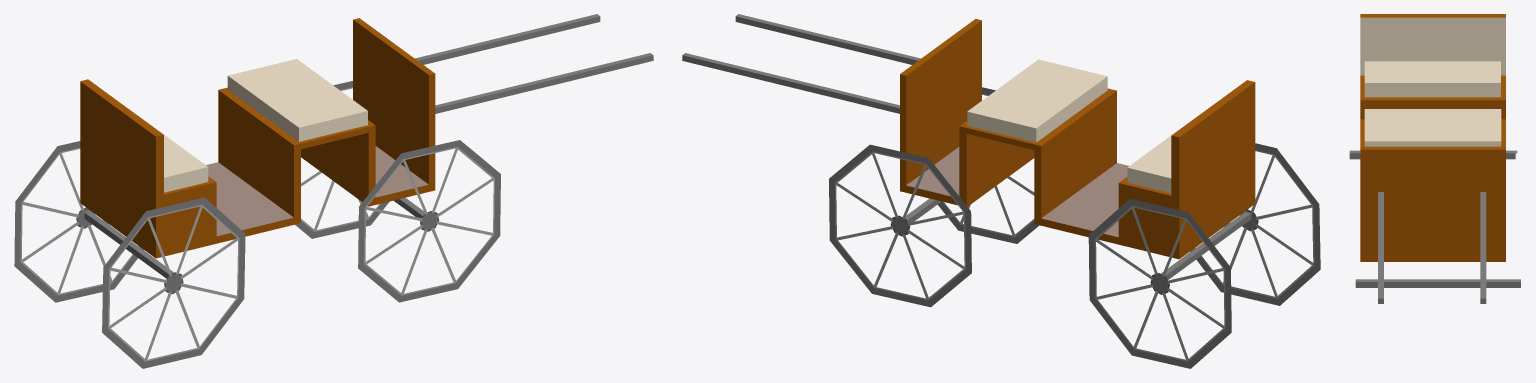
File: Carriage.glb
3 views of the same model, side by side, from view 1: azimuth 30°, elevation 25°; view 2: azimuth 150°, elevation 25°; view 3: azimuth 270°, elevation 25° (orthographic). The views are drawn at different scales.
Visible parts, largest first — view 1: Mesh9 carriage1 Model, Mesh5 Group2 carriage1 Model, Mesh1 Group1 carriage1 Model, Mesh10 carriage1 Model, Mesh12 carriage1 Model, Mesh13 carriage1 Model; view 2: Mesh9 carriage1 Model, Mesh10 carriage1 Model, Mesh12 carriage1 Model, Mesh5 Group2 carriage1 Model, Mesh1 Group1 carriage1 Model, Mesh13 carriage1 Model; view 3: Mesh9 carriage1 Model, Mesh11 carriage1 Model, Mesh13 carriage1 Model.
Part boxes in pixels (x1,y1,x2,y2): Mesh9 carriage1 Model: (80,14,653,258); Mesh5 Group2 carriage1 Model: (102,197,245,368); Mesh1 Group1 carriage1 Model: (358,140,500,302); Mesh10 carriage1 Model: (14,141,143,302); Mesh12 carriage1 Model: (295,81,389,238); Mesh13 carriage1 Model: (83,210,173,278); Mesh9 carriage1 Model: (682,14,1255,259); Mesh10 carriage1 Model: (1088,199,1231,368); Mesh12 carriage1 Model: (829,144,971,307); Mesh5 Group2 carriage1 Model: (1190,143,1320,305); Mesh1 Group1 carriage1 Model: (937,87,1039,243); Mesh13 carriage1 Model: (1161,212,1251,279); Mesh9 carriage1 Model: (1360,14,1505,303); Mesh11 carriage1 Model: (1355,279,1520,287); Mesh13 carriage1 Model: (1349,150,1517,159).
Bounding box in the file's own units: 46.53 × 17.57 × 12.77.
